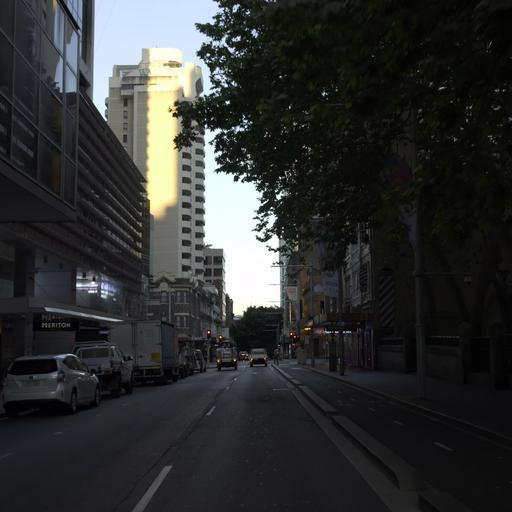Street light: (267, 297, 290, 357), (206, 329, 211, 338)
